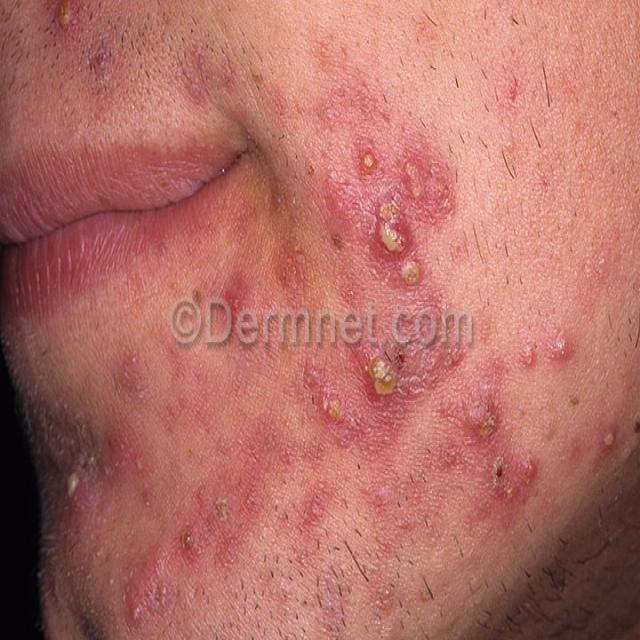Acne: (484, 449, 542, 507), (402, 156, 457, 216), (464, 375, 503, 450), (371, 192, 412, 260), (362, 346, 409, 402), (326, 178, 365, 232), (115, 352, 148, 408), (274, 240, 308, 293), (318, 381, 345, 426), (395, 252, 426, 290), (594, 420, 619, 464), (353, 140, 380, 178), (516, 335, 541, 376), (125, 581, 146, 627), (176, 520, 200, 560), (52, 0, 80, 33), (61, 465, 83, 506), (210, 489, 232, 528), (548, 332, 573, 366), (150, 579, 171, 619)
